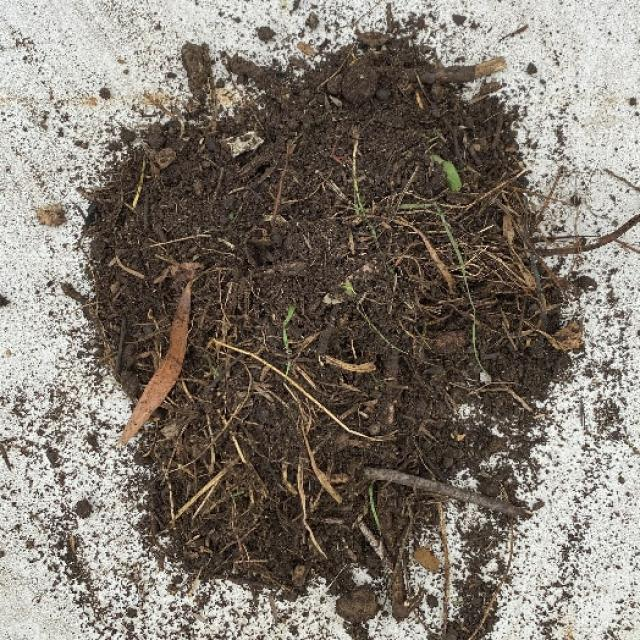organik: (129, 81, 530, 567)
